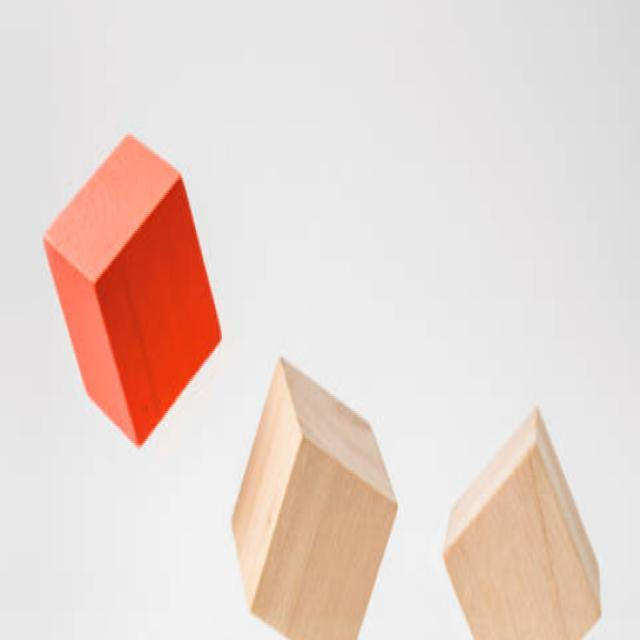red cube: (42, 132, 225, 452)
